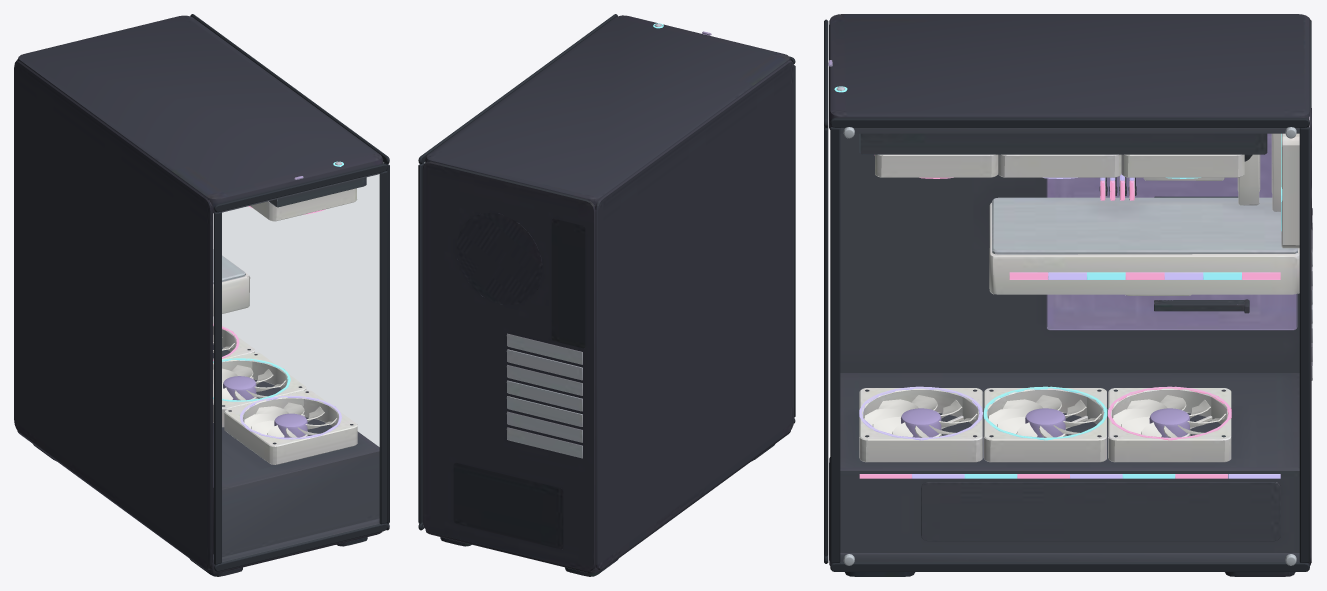
Rendered from gaming-pc-reference.glb.
3 renders of one model, left to right at view 1: azimuth 30°, elevation 25°; view 2: azimuth 150°, elevation 25°; view 3: azimuth 270°, elevation 25°, orthographic. The views are drawn at different scales.
Visible parts, largest first — view 1: gaming-pc_body, gaming-pc_front_glass, gaming-pc_side_panel, gaming-pc_fan_4_rotor, gaming-pc_fan_5_rotor, gaming-pc_glow_rgb; view 2: gaming-pc_body, gaming-pc_side_panel, gaming-pc_front_glass; view 3: gaming-pc_body, gaming-pc_side_panel, gaming-pc_glow_rgb, gaming-pc_fan_6_rotor, gaming-pc_fan_5_rotor, gaming-pc_fan_4_rotor, gaming-pc_front_glass.
Part boxes in pixels (box(x1,y1,x2,y2)): gaming-pc_body: box(14, 15, 383, 576); gaming-pc_front_glass: box(214, 163, 387, 571); gaming-pc_side_panel: box(190, 14, 389, 530); gaming-pc_fan_4_rotor: box(243, 402, 337, 437); gaming-pc_fan_5_rotor: box(213, 365, 285, 400); gaming-pc_glow_rgb: box(213, 161, 343, 439); gaming-pc_body: box(422, 15, 793, 576); gaming-pc_side_panel: box(418, 14, 617, 530); gaming-pc_front_glass: box(789, 56, 795, 423); gaming-pc_body: box(828, 14, 1312, 576); gaming-pc_side_panel: box(830, 118, 1309, 571); gaming-pc_glow_rgb: box(834, 86, 1282, 478); gaming-pc_fan_6_rotor: box(1112, 395, 1226, 437); gaming-pc_fan_5_rotor: box(988, 395, 1101, 437); gaming-pc_fan_4_rotor: box(863, 395, 977, 437); gaming-pc_front_glass: box(824, 19, 828, 563).
Size of the model in its own units: 0.2489 by 0.5047 by 0.4756.
23 materials, 1 textured.
